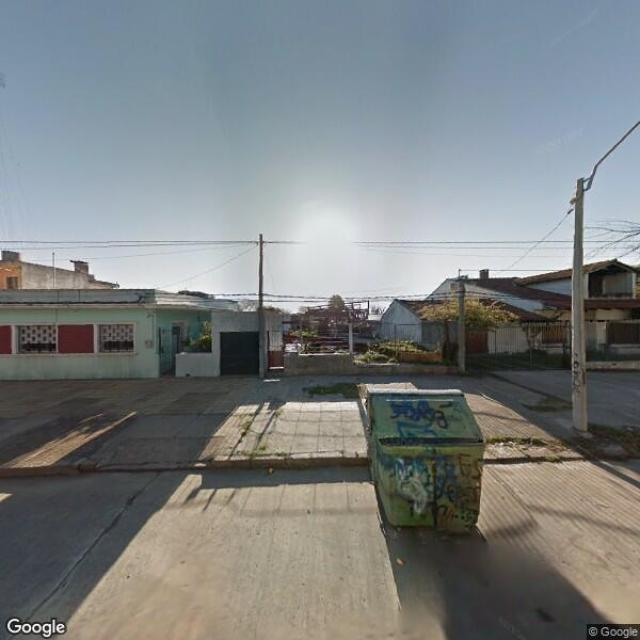garbage container: (355, 376, 492, 547)
